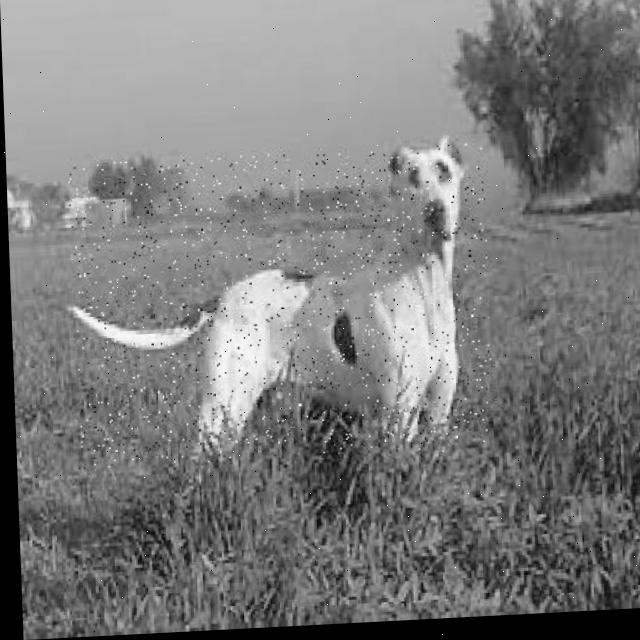Dog: (68, 143, 496, 472)
